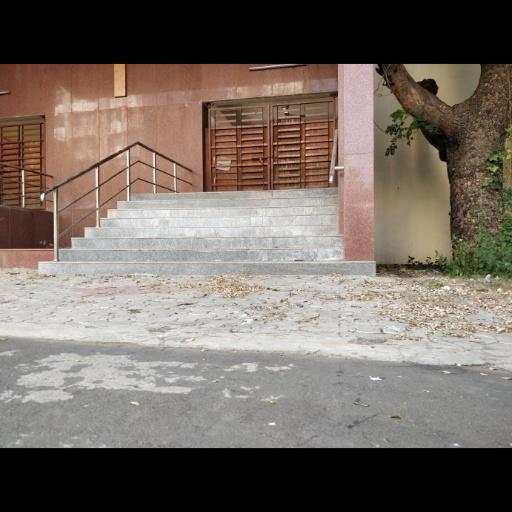stairs: (38, 188, 375, 275)
